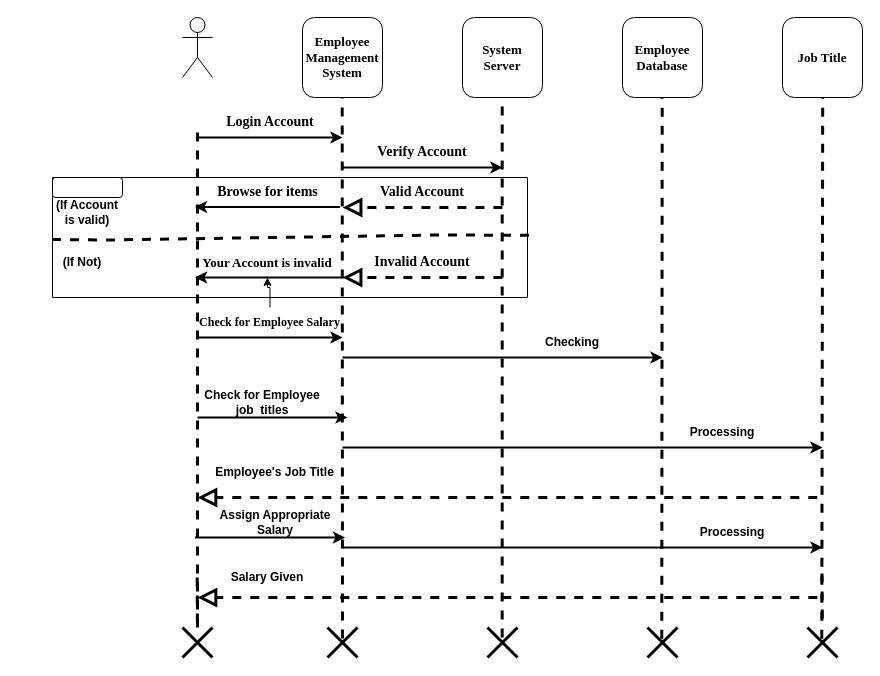
Some shapes in this 880 by 676 pixel diagram are drawn without their labels. The centre of each missing label's shape, as x and y in pixels:
"Admin" goes at (197,47).
"Alternative" goes at (87,187).
